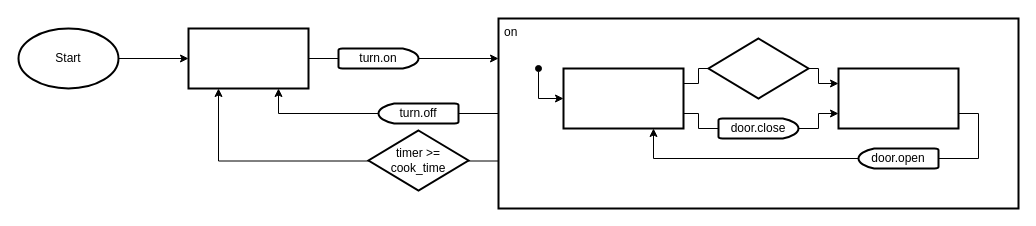
This 1036x226 diagram has some shape labels left out. The shapes that lost their labels are listed below. From the top down, each one's centre as x and y in pixels, then its label:
At pixel 248 58: "off".
At pixel 758 68: "door_closed".
At pixel 623 98: "idle".
At pixel 898 98: "cooking".
